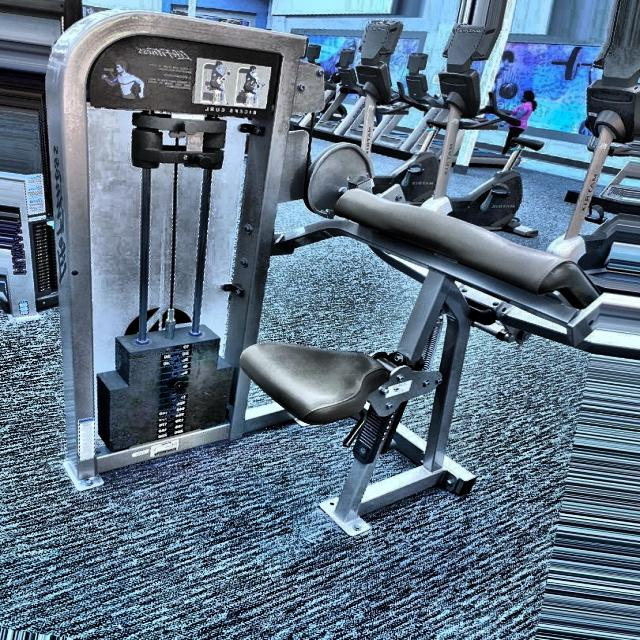bicep_curl_machine: (292, 126, 638, 386), (86, 30, 281, 128)
